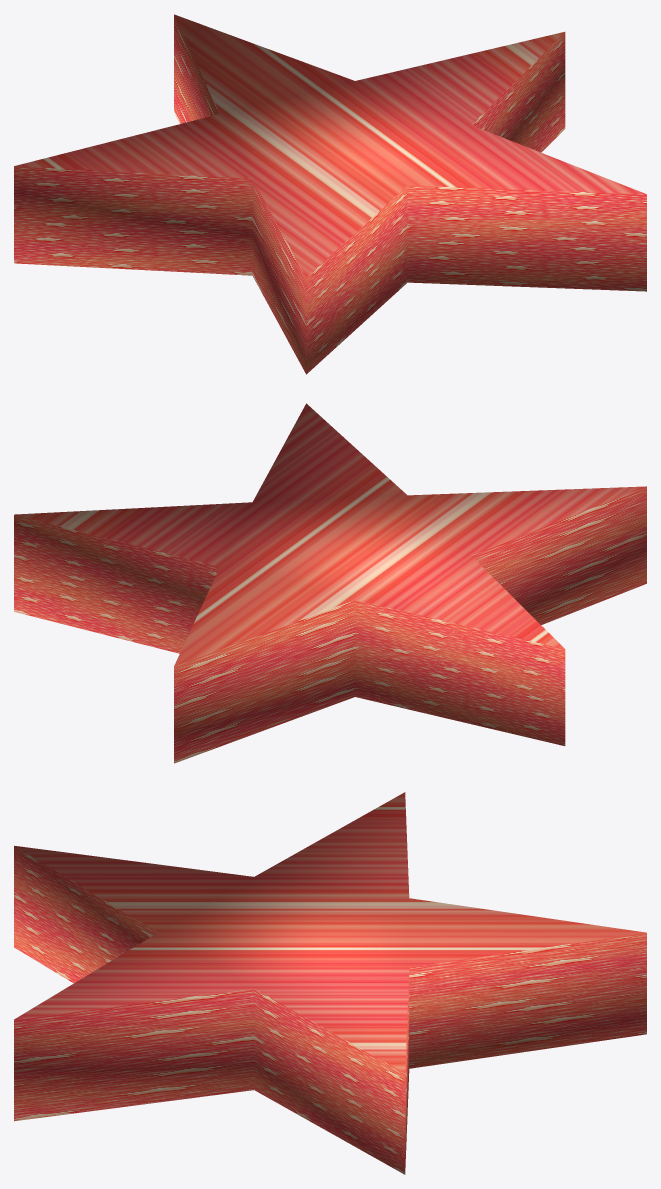
The model's file is starfish-BuBl4_YO.glb.
The picture shows the model from 3 angles, top to bottom: view 1: azimuth 30°, elevation 25°; view 2: azimuth 150°, elevation 25°; view 3: azimuth 270°, elevation 25°; orthographic projection. The views are drawn at different scales.
Visible parts, largest first — view 1: Starfish; view 2: Starfish; view 3: Starfish.
Part boxes in pixels (x1=…): Starfish: x1=14, y1=14, x2=646, y2=374; Starfish: x1=14, y1=403, x2=646, y2=763; Starfish: x1=14, y1=792, x2=646, y2=1174.
Bounding box in the file's own units: 0.5516 × 0.093 × 0.5246.
1 material, 1 textured.
